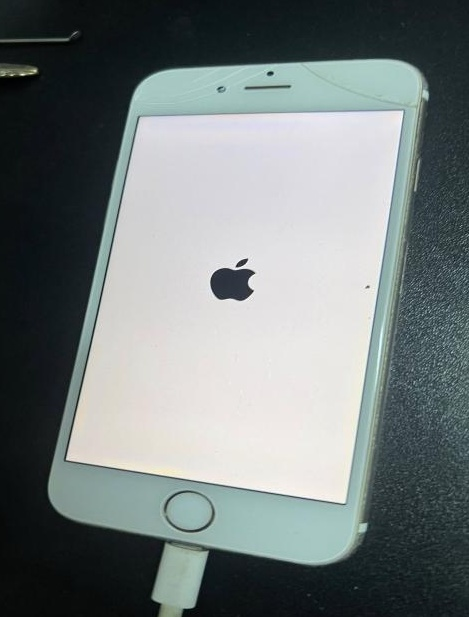physical_damage: (371, 93, 416, 109), (249, 63, 279, 79), (206, 69, 222, 97), (187, 78, 204, 102), (166, 84, 185, 104), (224, 70, 245, 88), (318, 75, 345, 89), (346, 86, 368, 99), (145, 92, 163, 105), (300, 63, 317, 76), (133, 84, 140, 104)
scratch: (397, 229, 407, 294), (415, 115, 424, 157), (359, 493, 372, 516), (373, 413, 383, 431), (369, 439, 379, 453), (357, 532, 365, 549), (377, 382, 385, 396)
screen_defect: (364, 284, 373, 290)
